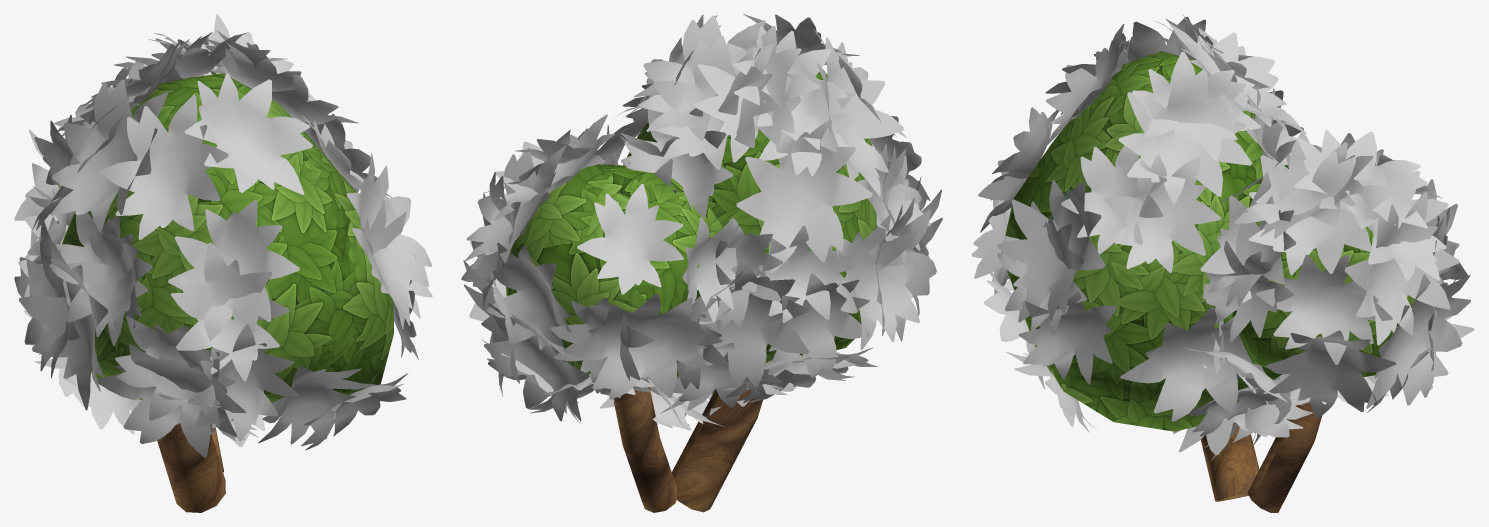
File: bush_02.fbx
3 views of the same model, side by side, from view 1: azimuth 30°, elevation 25°; view 2: azimuth 150°, elevation 25°; view 3: azimuth 270°, elevation 25° (orthographic). The views are drawn at different scales.
Parts seen in each view (by area): view 1: bush_02; view 2: bush_02; view 3: bush_02.
Boxes of the visible parts, x1,y1,x2,y2 form: bush_02: [14, 14, 432, 512]; bush_02: [461, 14, 942, 512]; bush_02: [971, 14, 1474, 512].
Size of the model in its own units: 29.03 by 37.02 by 36.15.
